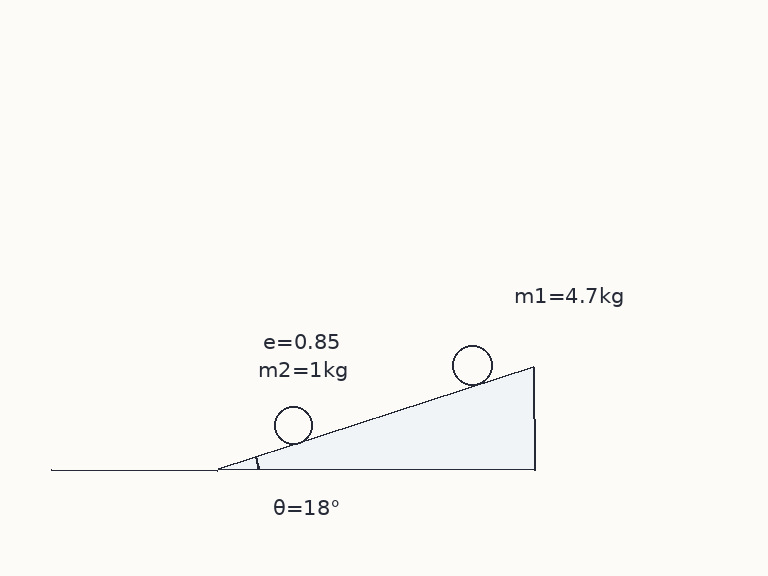ball: (450, 343, 494, 387), (272, 404, 314, 446)
ramp: (216, 364, 536, 471)
